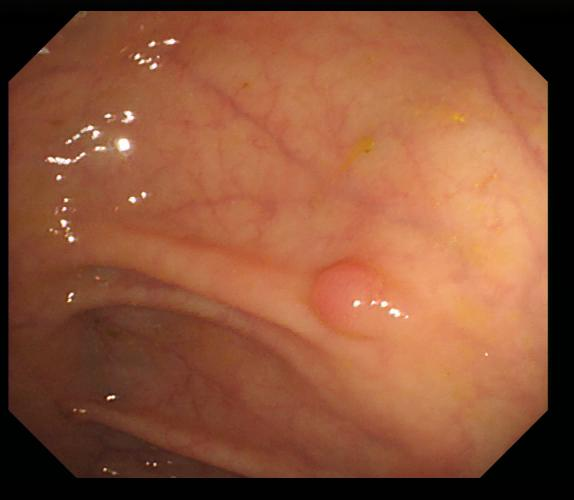polyp: (310, 260, 407, 348)
